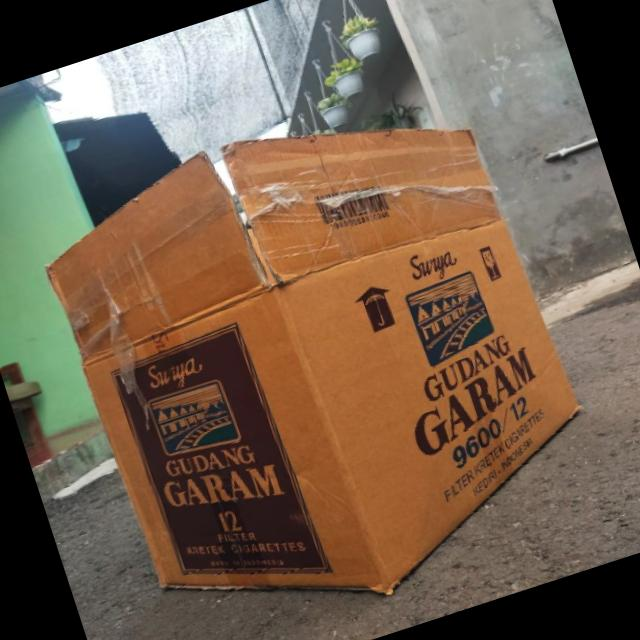Kardus: (23, 61, 619, 640), (332, 8, 389, 65)
